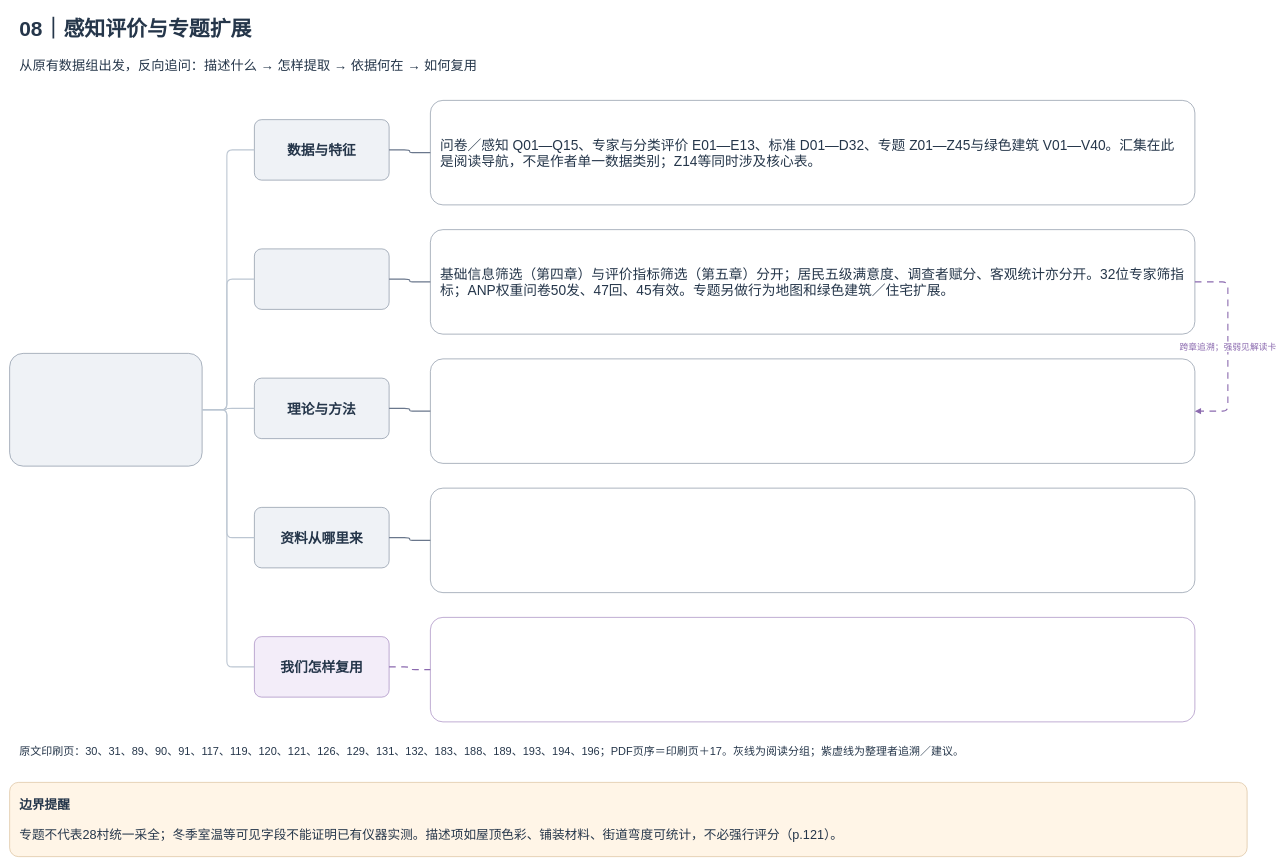
The diagram is 1286 pixels wide and 866 high, and some of its shapes have lost their labels. The centre of each missing label's shape, as x and y in pixels:
K05 环境认知支撑主观评价方向；K08基础筛选；K09标准与评价组织；K11权重及比较方法；K12专题。评价用途不能反推全部基础字段都是评价指标。: point 812,410
S12居民、S13调查者、S14指标筛选专家、S15权重专家、S16标准与研究、S17专题。标准／文献是选择和赋分依据，不是实测资料提供者。: point 812,540
【暂缓整套移植】当前先做民居描述、语义与空间对应；需要感知问题时再设计问卷。可借评价与事实分开、原始值与派生分数并存；不沿用作者权重、样本量、评分阈值。: point 812,669
区分描述、评价与专题目标 QEDZV组 · 145条 原编号可逐项回查: point 105,409
识别与整理: point 321,278
